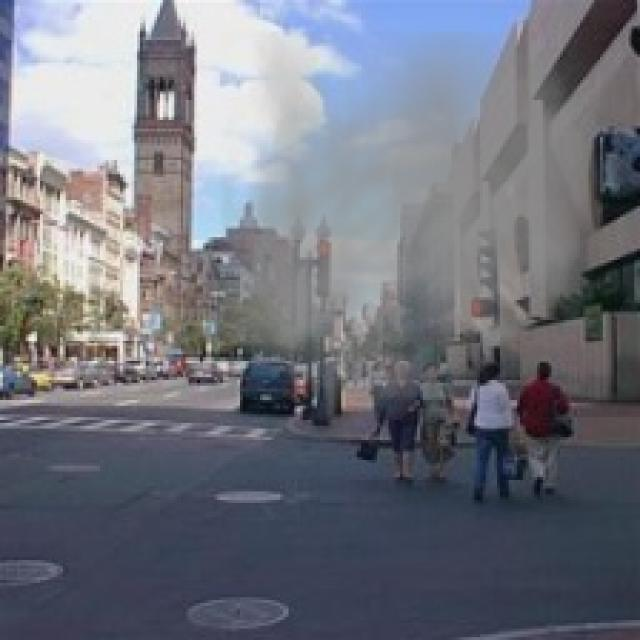Smoke: (214, 32, 609, 434)
